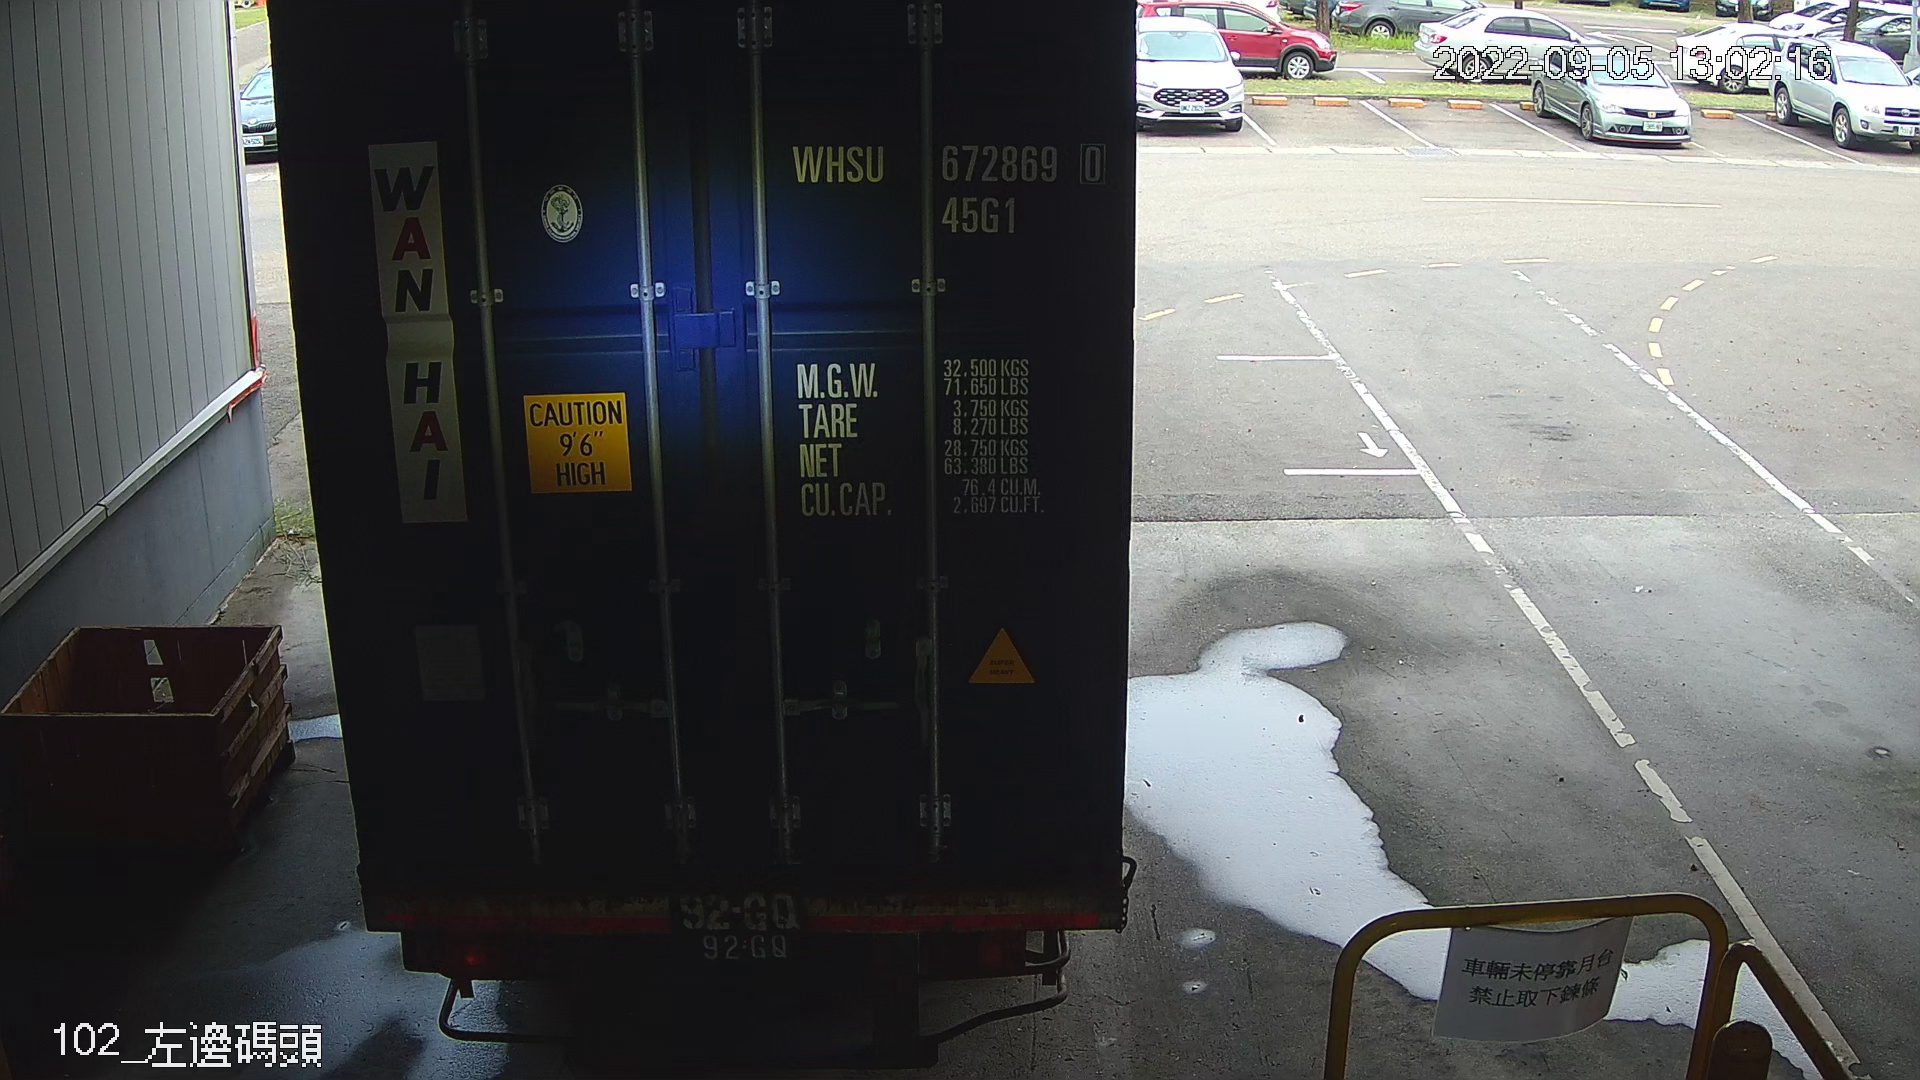container: (781, 123, 1117, 249)
